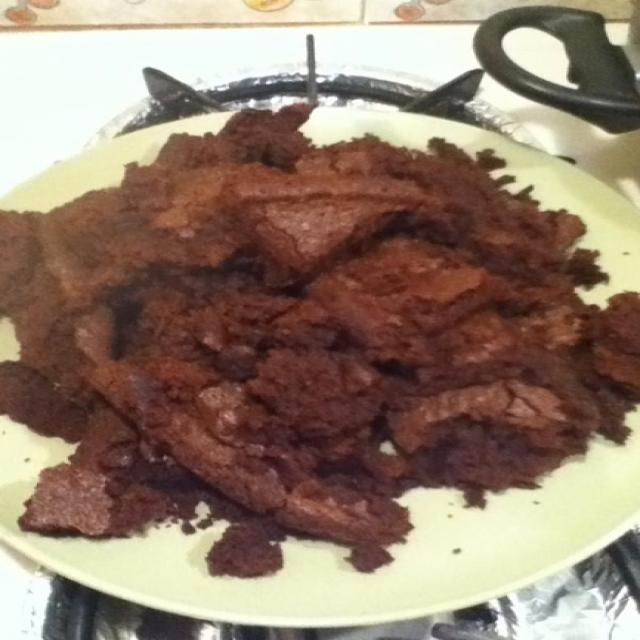蛋糕甜品: (9, 82, 637, 608)
